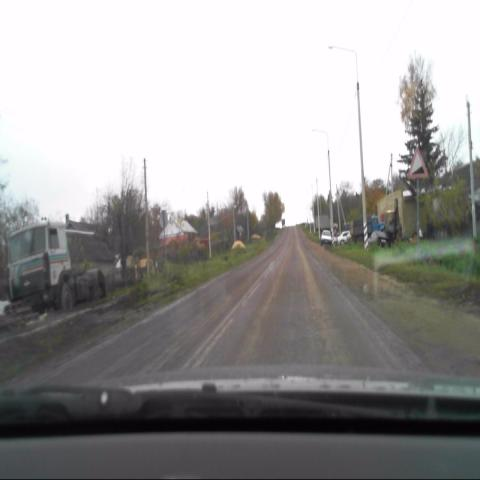1_14: (408, 145, 428, 181)
